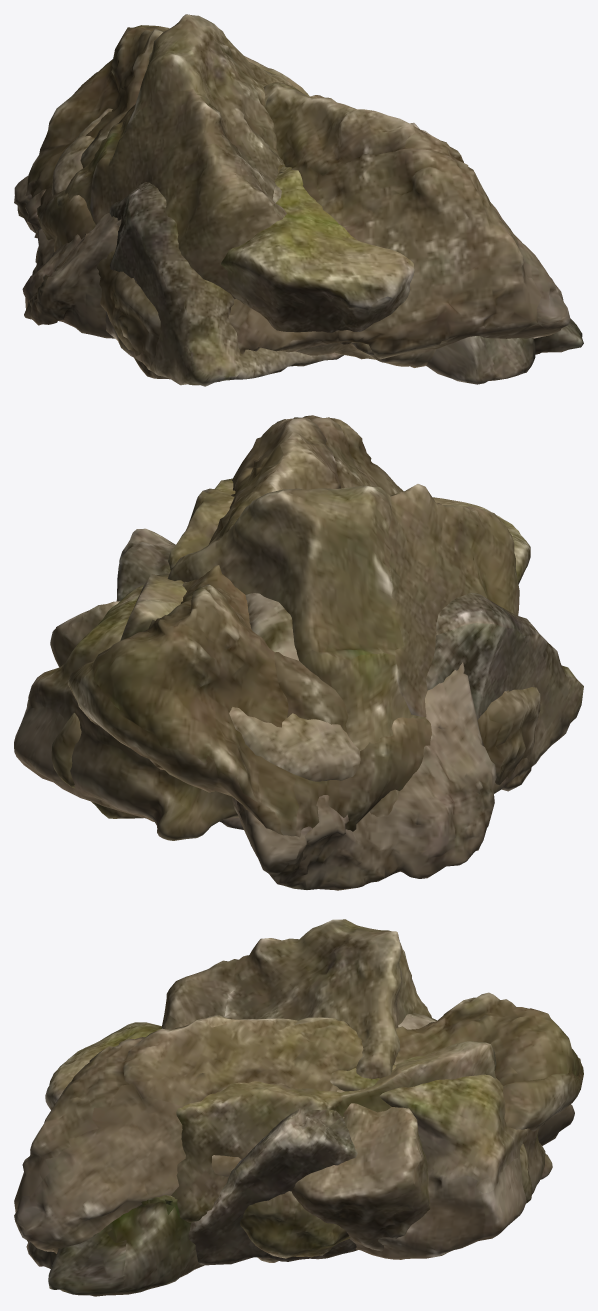
The model's file is rock_moss_set_01.glb.
3 renders of one model, top to bottom at view 1: azimuth 30°, elevation 25°; view 2: azimuth 150°, elevation 25°; view 3: azimuth 270°, elevation 25°, orthographic. The views are drawn at different scales.
Visible parts, largest first — view 1: rock_moss_set_01_a_lod0, rock_moss_set_01_b_lod0, rock_moss_set_01_d_lod0, rock_moss_set_01_f_lod0, rock_moss_set_01_c_lod0, rock_moss_set_01_e_lod0; view 2: rock_moss_set_01_a_lod0, rock_moss_set_01_b_lod0, rock_moss_set_01_c_lod0, rock_moss_set_01_d_lod0, rock_moss_set_01_f_lod0, rock_moss_set_01_e_lod0; view 3: rock_moss_set_01_a_lod0, rock_moss_set_01_b_lod0, rock_moss_set_01_d_lod0, rock_moss_set_01_e_lod0, rock_moss_set_01_c_lod0, rock_moss_set_01_f_lod0.
Part boxes in pixels (x1,y1,x2,y2): rock_moss_set_01_a_lod0: (25,25,570,379); rock_moss_set_01_b_lod0: (54,14,324,299); rock_moss_set_01_d_lod0: (51,92,414,355); rock_moss_set_01_f_lod0: (105,122,431,386); rock_moss_set_01_c_lod0: (14,175,583,384); rock_moss_set_01_e_lod0: (244,56,435,367); rock_moss_set_01_a_lod0: (68,415,540,845); rock_moss_set_01_b_lod0: (50,484,519,816); rock_moss_set_01_c_lod0: (232,593,496,890); rock_moss_set_01_d_lod0: (14,497,530,840); rock_moss_set_01_f_lod0: (116,528,583,829); rock_moss_set_01_e_lod0: (51,478,235,818); rock_moss_set_01_a_lod0: (14,992,583,1262); rock_moss_set_01_b_lod0: (161,919,431,1251); rock_moss_set_01_d_lod0: (45,1022,552,1259); rock_moss_set_01_e_lod0: (171,1041,532,1258); rock_moss_set_01_c_lod0: (26,1013,574,1296); rock_moss_set_01_f_lod0: (188,1108,357,1265).
Size of what is drawn, in the model's own units: 2.65 by 1.77 by 3.37.
1 material, 1 textured.
